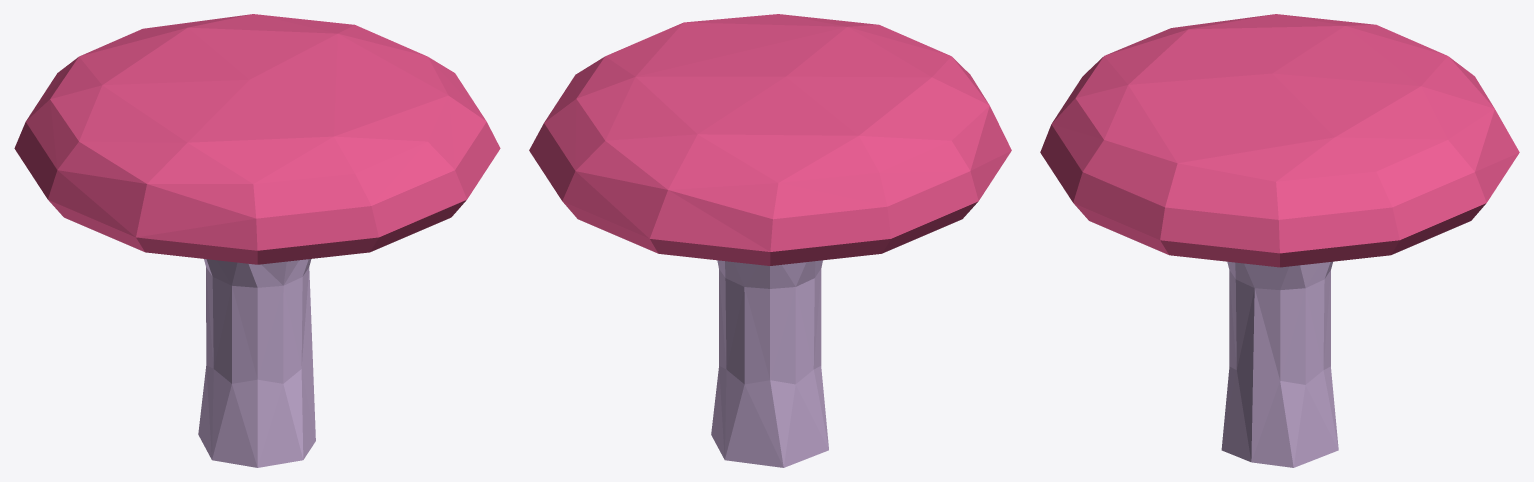
The model's file is Mushroom.fbx.
3 views of the same model, side by side, from view 1: azimuth 30°, elevation 25°; view 2: azimuth 150°, elevation 25°; view 3: azimuth 270°, elevation 25° (orthographic).
Visible parts, largest first — view 1: Cylinder; view 2: Cylinder; view 3: Cylinder.
Part boxes in pixels (<box>): Cylinder: <box>14,14,500,467</box>; Cylinder: <box>529,14,1011,467</box>; Cylinder: <box>1040,14,1519,467</box>.
Bounding box in the file's own units: 139 × 116 × 139.
